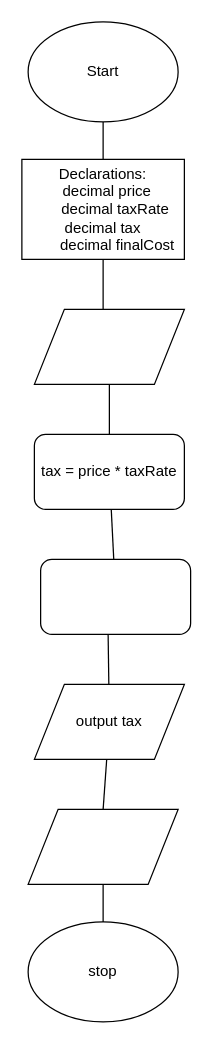
Image size: 213x1044. Some labels were removed from this diagram. Each missing label, with the centre of its shape:
"finalCost = price + tax" belongs at point 115,596.
"input: price" belongs at point 108,346.
"output finalCost" belongs at point 102,846.
